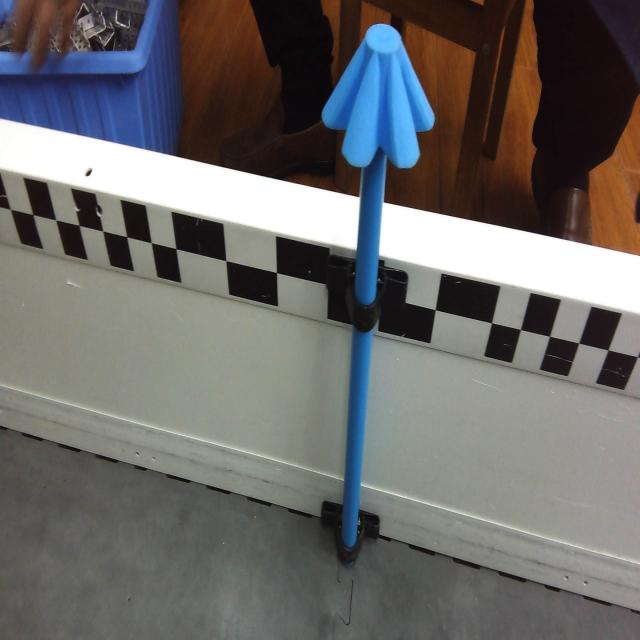zblue-Stake-Head: (321, 20, 436, 172)
